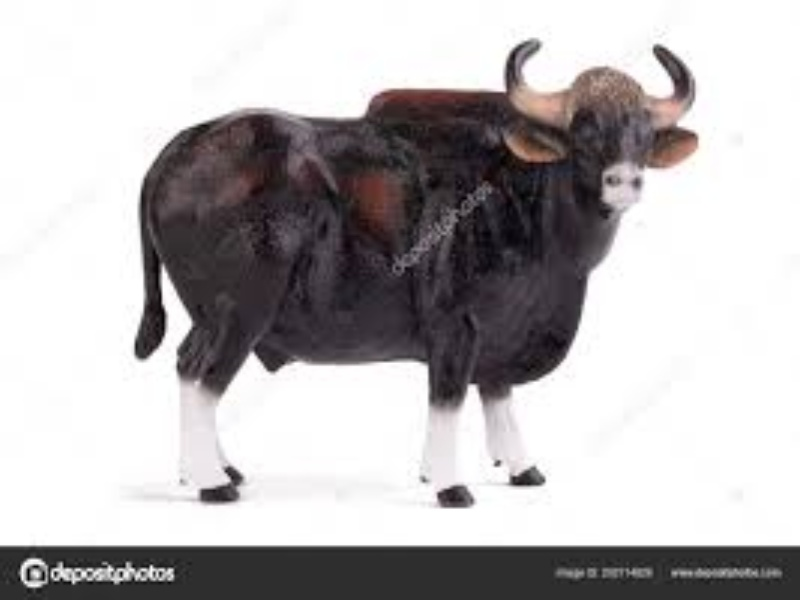buffalo: (120, 41, 704, 503)
